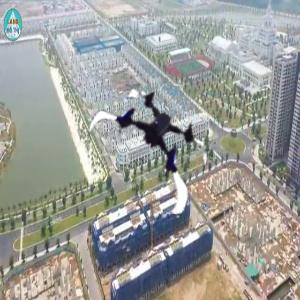drone: (86, 76, 216, 206)
